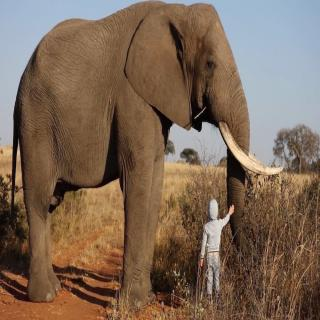Elephant: (8, 0, 288, 316)
